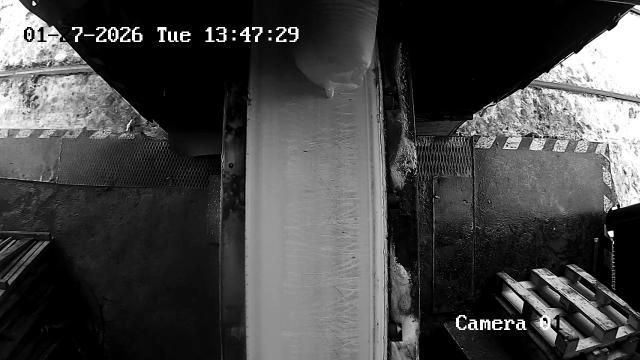bag: (294, 0, 380, 98)
